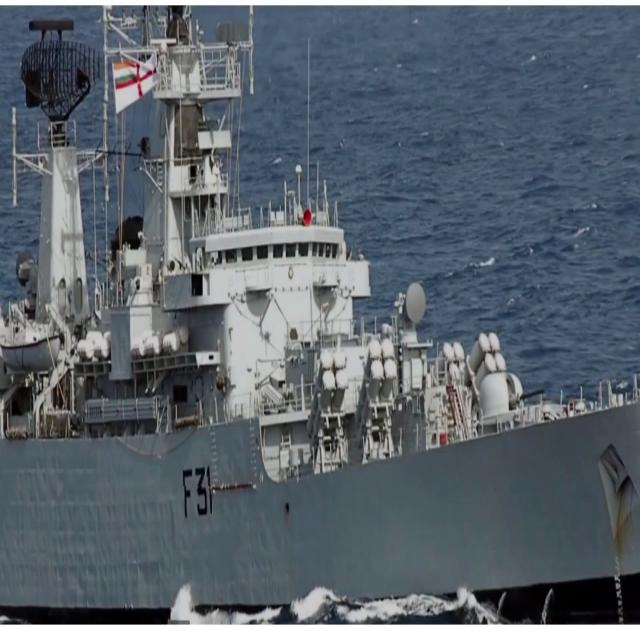OCR: (180, 463, 212, 522)
